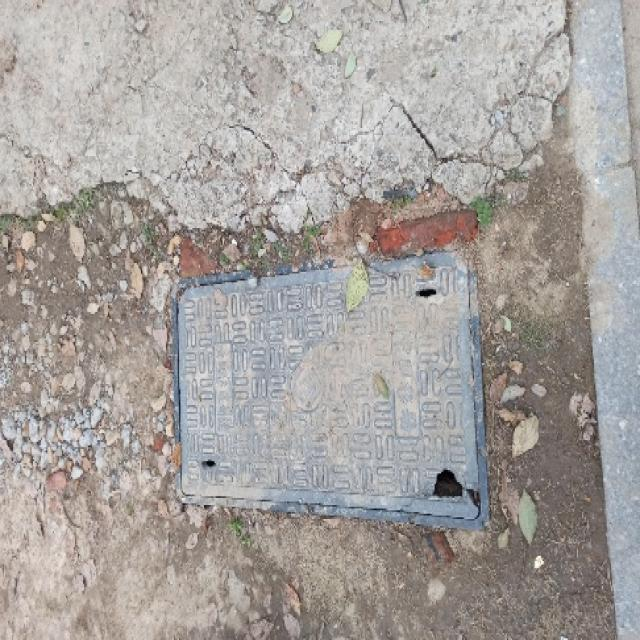Broken: (168, 249, 492, 534)
